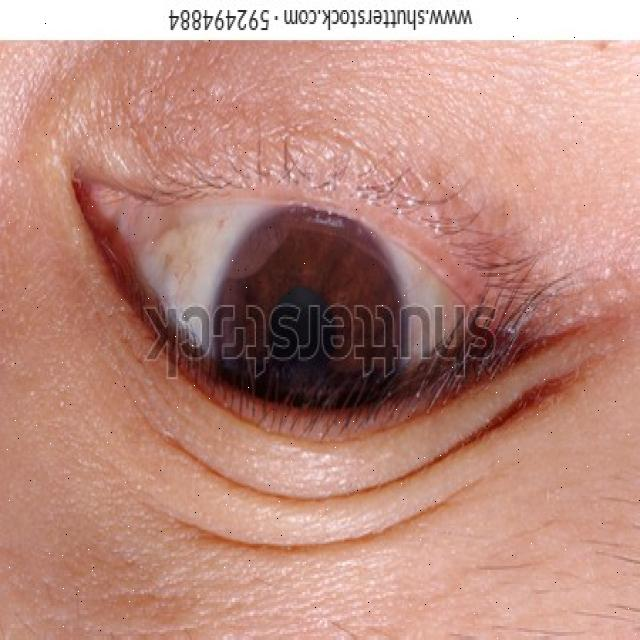Normal: (206, 204, 404, 470)
